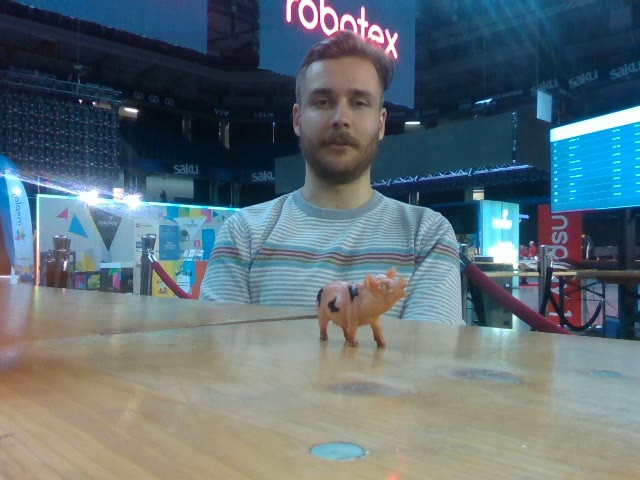toy: (316, 265, 410, 350)
